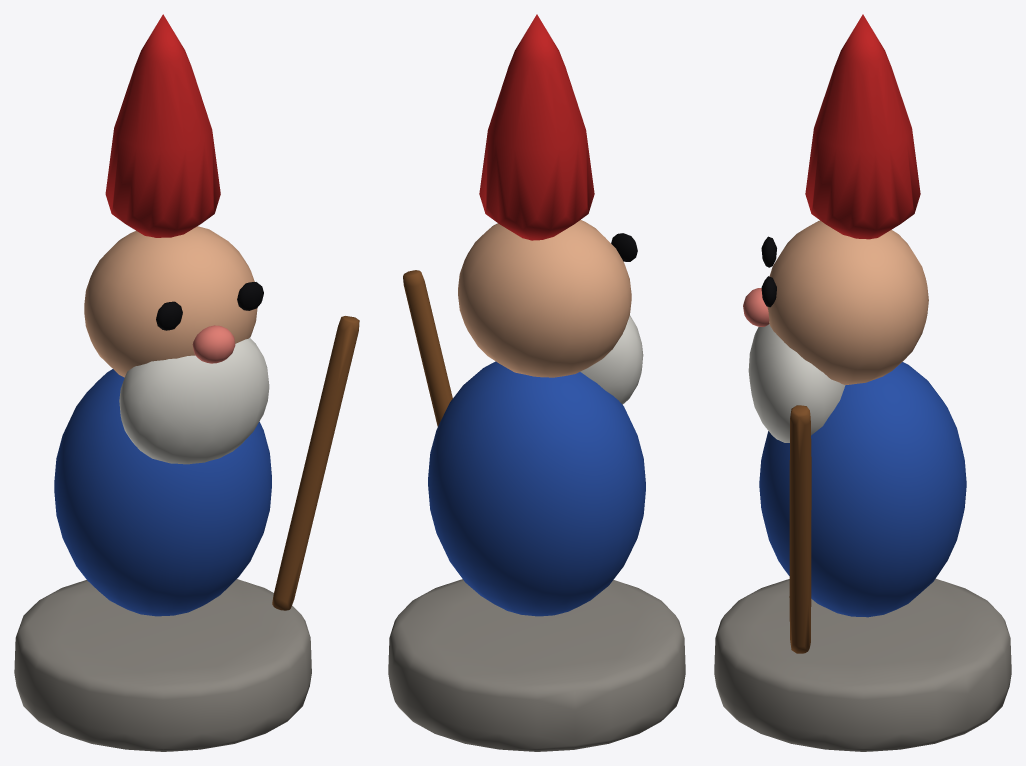
The model's file is Gartenzwerg.fbx.
The picture shows the model from 3 angles, left to right: view 1: azimuth 30°, elevation 25°; view 2: azimuth 150°, elevation 25°; view 3: azimuth 270°, elevation 25°; orthographic projection.
Visible parts, largest first — view 1: Gartenzwerg; view 2: Gartenzwerg; view 3: Gartenzwerg.
Part boxes in pixels (bbox=[...]): Gartenzwerg: bbox=[14, 14, 359, 751]; Gartenzwerg: bbox=[388, 14, 685, 751]; Gartenzwerg: bbox=[714, 14, 1011, 751].
Size of the model in its own units: 0.4341 by 0.9643 by 0.3813.
